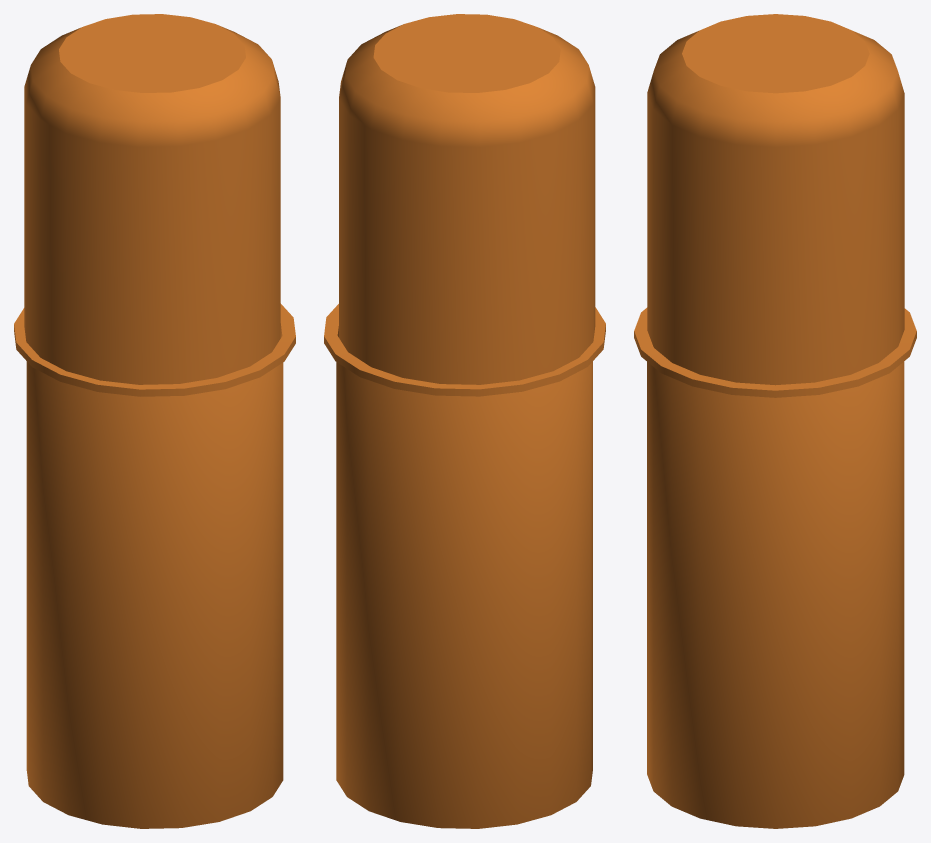
The model's file is Tank_2B.fbx.
3 views of the same model, side by side, from view 1: azimuth 30°, elevation 25°; view 2: azimuth 150°, elevation 25°; view 3: azimuth 270°, elevation 25° (orthographic).
Parts seen in each view (by area): view 1: Tank_2B; view 2: Tank_2B; view 3: Tank_2B.
Part boxes in pixels (bbox=[...]): Tank_2B: bbox=[14, 14, 295, 828]; Tank_2B: bbox=[324, 14, 605, 828]; Tank_2B: bbox=[634, 14, 916, 828].
Bounding box in the file's own units: 1804 × 5067 × 1804.
